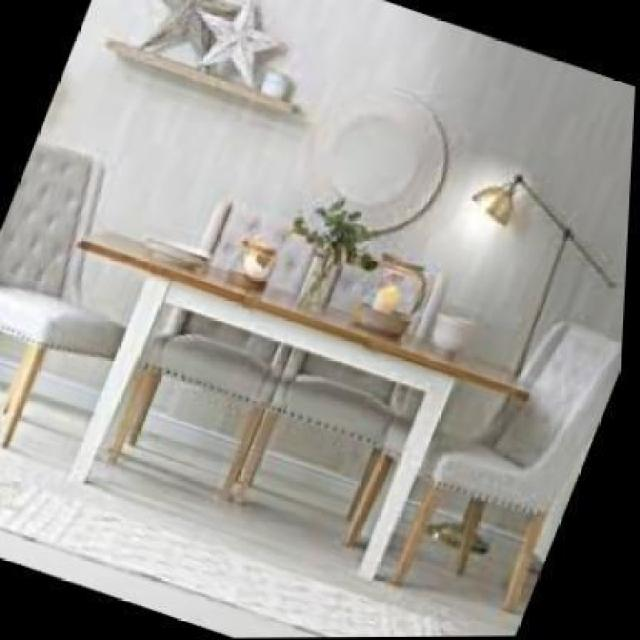tables: (74, 229, 531, 583)
